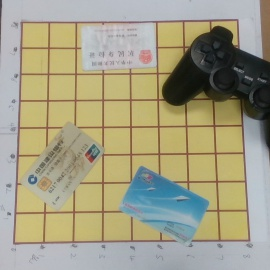card: (20, 121, 105, 209), (118, 165, 209, 246), (81, 22, 158, 69)
remote: (162, 24, 270, 148)
